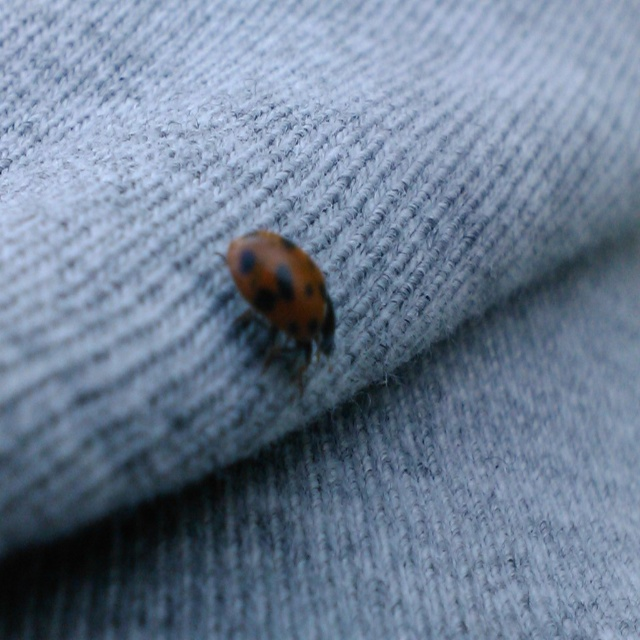Ladybug: (216, 234, 337, 393)
